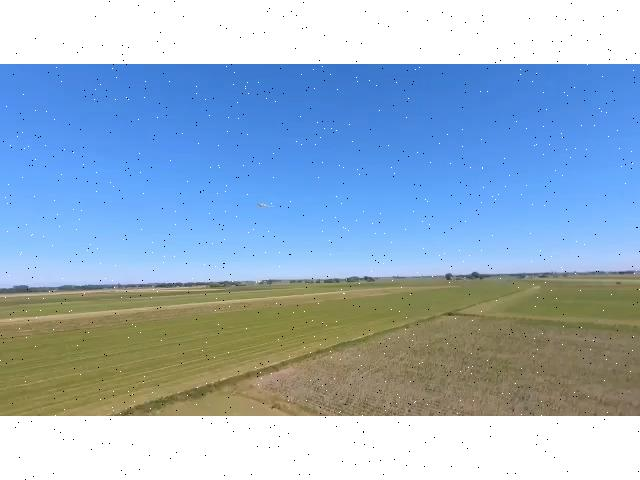Anti-Drone: (250, 197, 280, 215)
